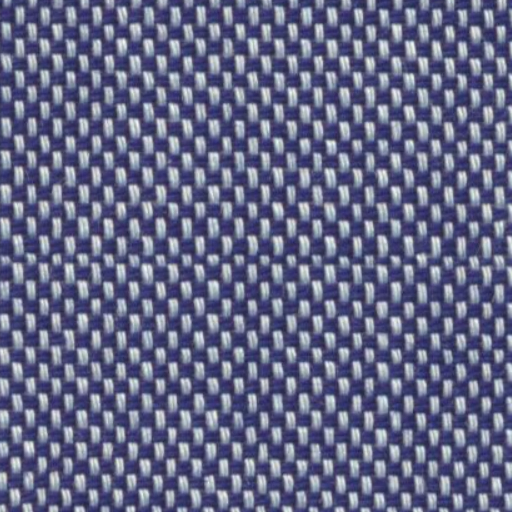TuoSha: (12, 222, 492, 287)
